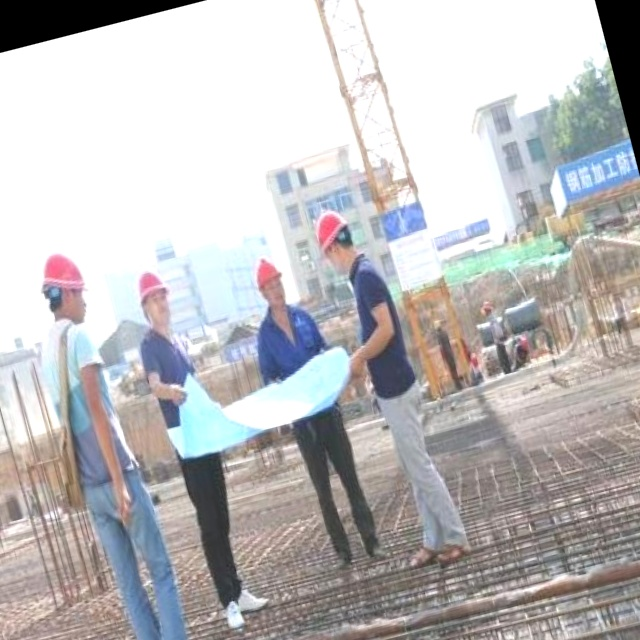Con_Casco: (247, 253, 295, 314)
